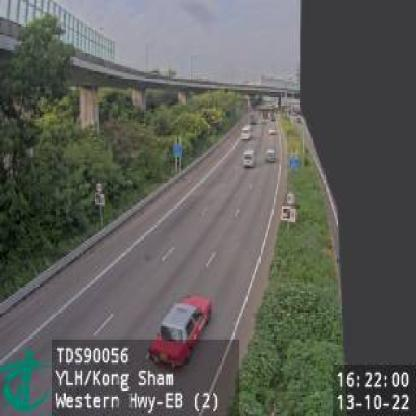Car: (149, 293, 211, 371), (243, 148, 255, 166), (265, 146, 276, 161), (242, 125, 251, 141)
